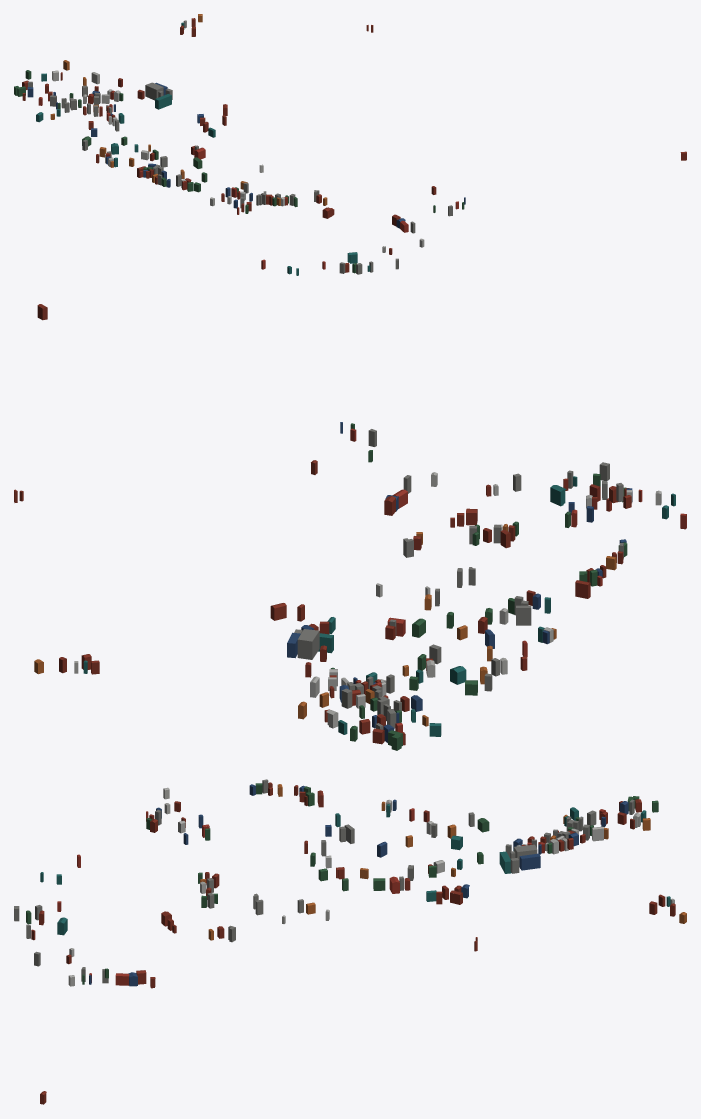
The model's file is near-15-27365-14871.1c32d5a4.glb.
3 renders of one model, top to bottom at view 1: azimuth 30°, elevation 25°; view 2: azimuth 150°, elevation 25°; view 3: azimuth 270°, elevation 25°, orthographic. The views are drawn at different scales.
Size of the model in its own units: 1145 by 215 by 1128.
